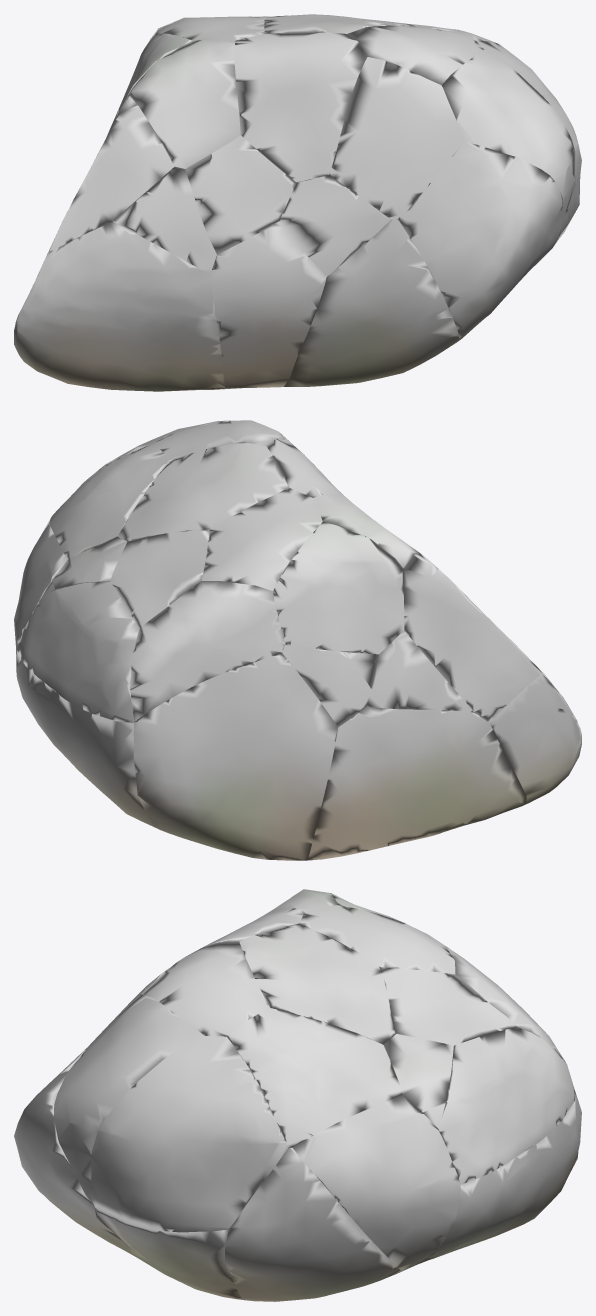
The model's file is rock_crumbs.glb.
3 renders of one model, top to bottom at view 1: azimuth 30°, elevation 25°; view 2: azimuth 150°, elevation 25°; view 3: azimuth 270°, elevation 25°, orthographic. The views are drawn at different scales.
Parts seen in each view (by area): view 1: Crumb_02_c09, Crumb_04_c02, Crumb_20_c00, Crumb_15_c00, Crumb_17_c05, Crumb_07_c06, Crumb_15_c06, Crumb_10_c06, Crumb_04_c10, Crumb_10_c15, Crumb_23_c07, Crumb_04_c07 (+128 smaller); view 2: Crumb_19_c06, Crumb_19_c08, Crumb_09_c00, Crumb_27_c00, Crumb_06_c04, Crumb_01_c06, Crumb_22_c03, Crumb_22_c02, Crumb_01_c02, Crumb_01_c03, Crumb_06_c05, Crumb_14_c00 (+140 smaller); view 3: Crumb_00_c01, Crumb_08_c11, Crumb_00_c04, Crumb_18_c00, Crumb_08_c05, Crumb_13_c11, Crumb_08_c01, Crumb_00_c11, Crumb_13_c09, Crumb_08_c12, Crumb_13_c18, Crumb_13_c04 (+135 smaller).
Part boxes in pixels (left/top/right/bottom): Crumb_02_c09: left=340, top=282, right=396, bottom=330; Crumb_04_c02: left=106, top=282, right=159, bottom=334; Crumb_20_c00: left=196, top=160, right=244, bottom=215; Crumb_15_c00: left=279, top=215, right=343, bottom=260; Crumb_17_c05: left=69, top=174, right=121, bottom=229; Crumb_07_c06: left=264, top=268, right=315, bottom=324; Crumb_15_c06: left=285, top=175, right=345, bottom=218; Crumb_10_c06: left=440, top=248, right=497, bottom=298; Crumb_04_c10: left=149, top=289, right=197, bottom=343; Crumb_10_c15: left=488, top=189, right=536, bottom=255; Crumb_23_c07: left=342, top=82, right=391, bottom=136; Crumb_04_c07: left=70, top=247, right=117, bottom=297; Crumb_19_c06: left=173, top=595, right=226, bottom=643; Crumb_19_c08: left=159, top=640, right=207, bottom=699; Crumb_09_c00: left=398, top=661, right=444, bottom=709; Crumb_27_c00: left=231, top=547, right=288, bottom=590; Crumb_06_c04: left=166, top=789, right=219, bottom=834; Crumb_01_c06: left=333, top=756, right=384, bottom=807; Crumb_22_c03: left=331, top=576, right=377, bottom=627; Crumb_22_c02: left=326, top=533, right=365, bottom=580; Crumb_01_c02: left=467, top=773, right=505, bottom=823; Crumb_01_c03: left=315, top=779, right=362, bottom=832; Crumb_06_c05: left=242, top=811, right=290, bottom=859; Crumb_14_c00: left=316, top=663, right=370, bottom=708; Crumb_00_c01: left=281, top=1181, right=341, bottom=1233; Crumb_08_c11: left=314, top=1113, right=376, bottom=1165; Crumb_00_c04: left=230, top=1232, right=292, bottom=1281; Crumb_18_c00: left=112, top=1037, right=173, bottom=1084; Crumb_08_c05: left=333, top=1158, right=382, bottom=1208; Crumb_13_c11: left=179, top=1066, right=233, bottom=1112; Crumb_08_c01: left=400, top=1154, right=441, bottom=1207; Crumb_00_c11: left=234, top=1282, right=356, bottom=1301; Crumb_13_c09: left=162, top=1092, right=209, bottom=1146; Crumb_08_c12: left=373, top=1160, right=410, bottom=1219; Crumb_13_c18: left=247, top=1106, right=288, bottom=1168; Crumb_13_c04: left=114, top=1123, right=166, bottom=1163.
Bounding box in the file's own units: 2.77 × 1.47 × 2.48.
